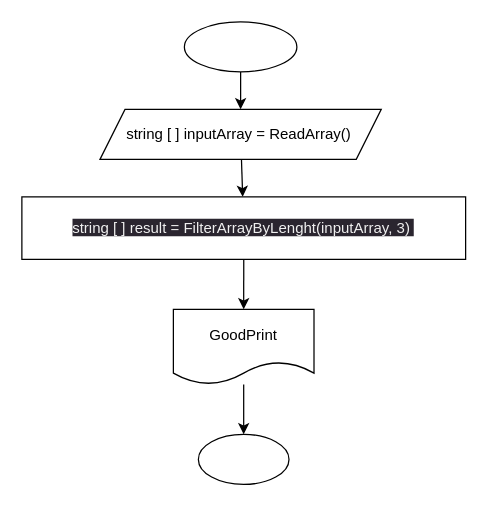
Some shapes in this 488 by 506 pixel diagram are drawn without their labels. Here are the shapes that lost their labels. From the top down, the box of each, then its label:
(183, 21, 297, 72): Start
(197, 433, 289, 484): end
